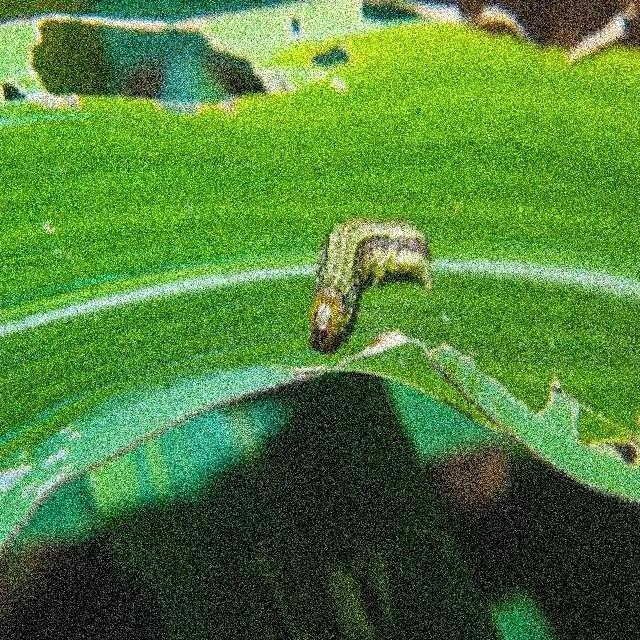gusano_cogollero: (306, 212, 432, 354)
